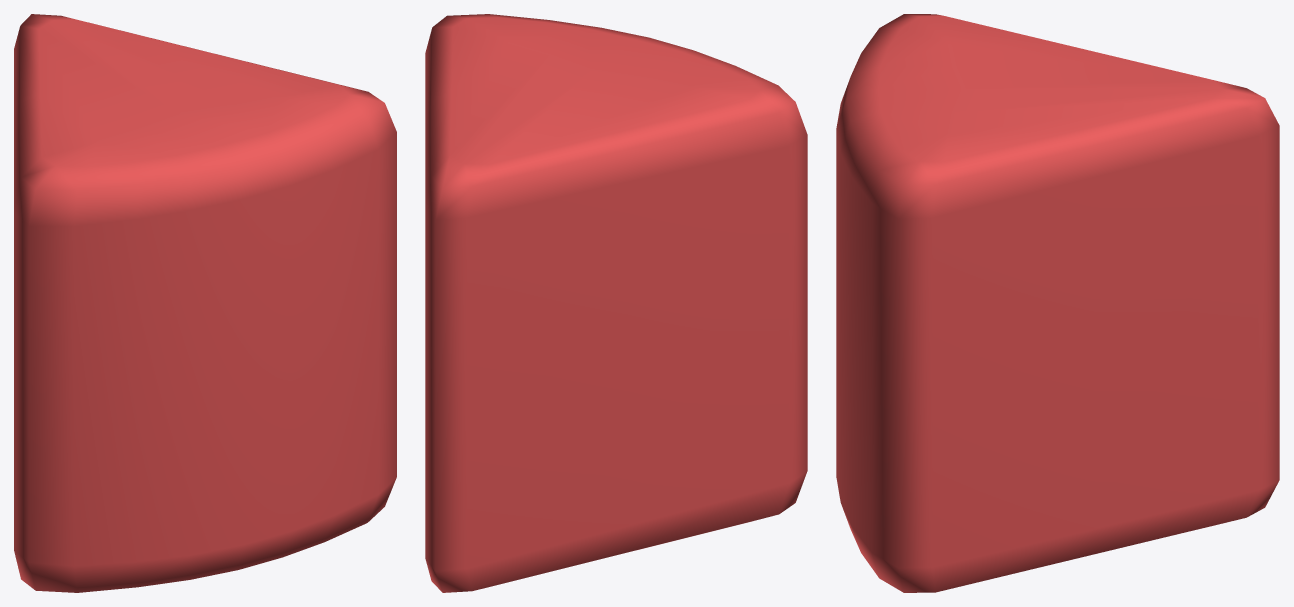
The model's file is cake 6 slice.fbx.
The picture shows the model from 3 angles, left to right: view 1: azimuth 30°, elevation 25°; view 2: azimuth 150°, elevation 25°; view 3: azimuth 270°, elevation 25°; orthographic projection.
Visible parts, largest first — view 1: cake6; view 2: cake6; view 3: cake6.
Boxes of the visible parts, x1,y1,x2,y2 form: cake6: (14,14,396,592); cake6: (425,14,807,592); cake6: (836,14,1279,592).
Size of the model in its own units: 0.9168 by 1.01 by 0.9464.
